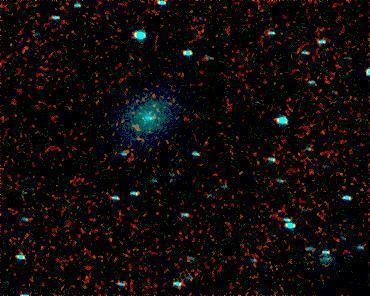star: (138, 92, 168, 122)
